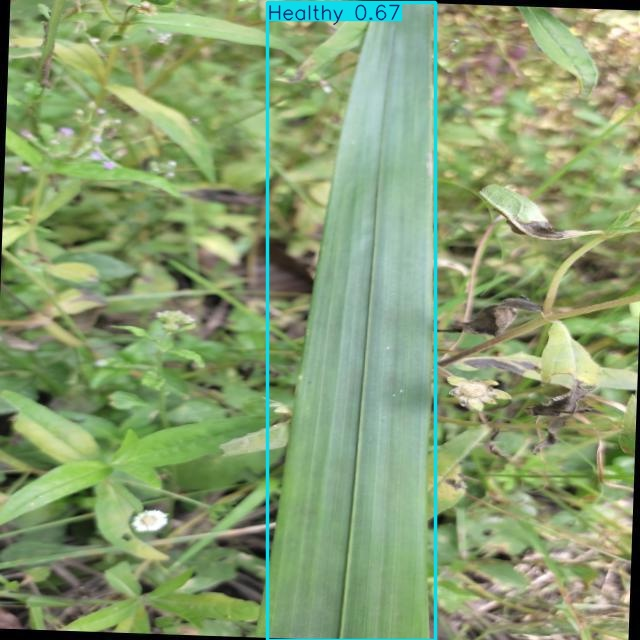Healthy: (268, 3, 435, 640)
